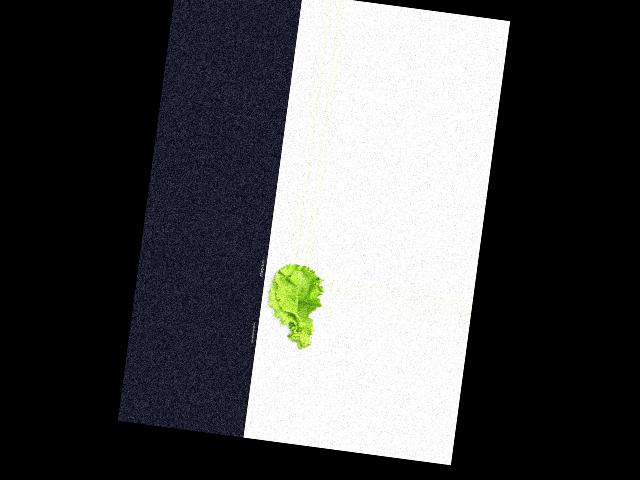lettuce: (258, 260, 327, 349)
